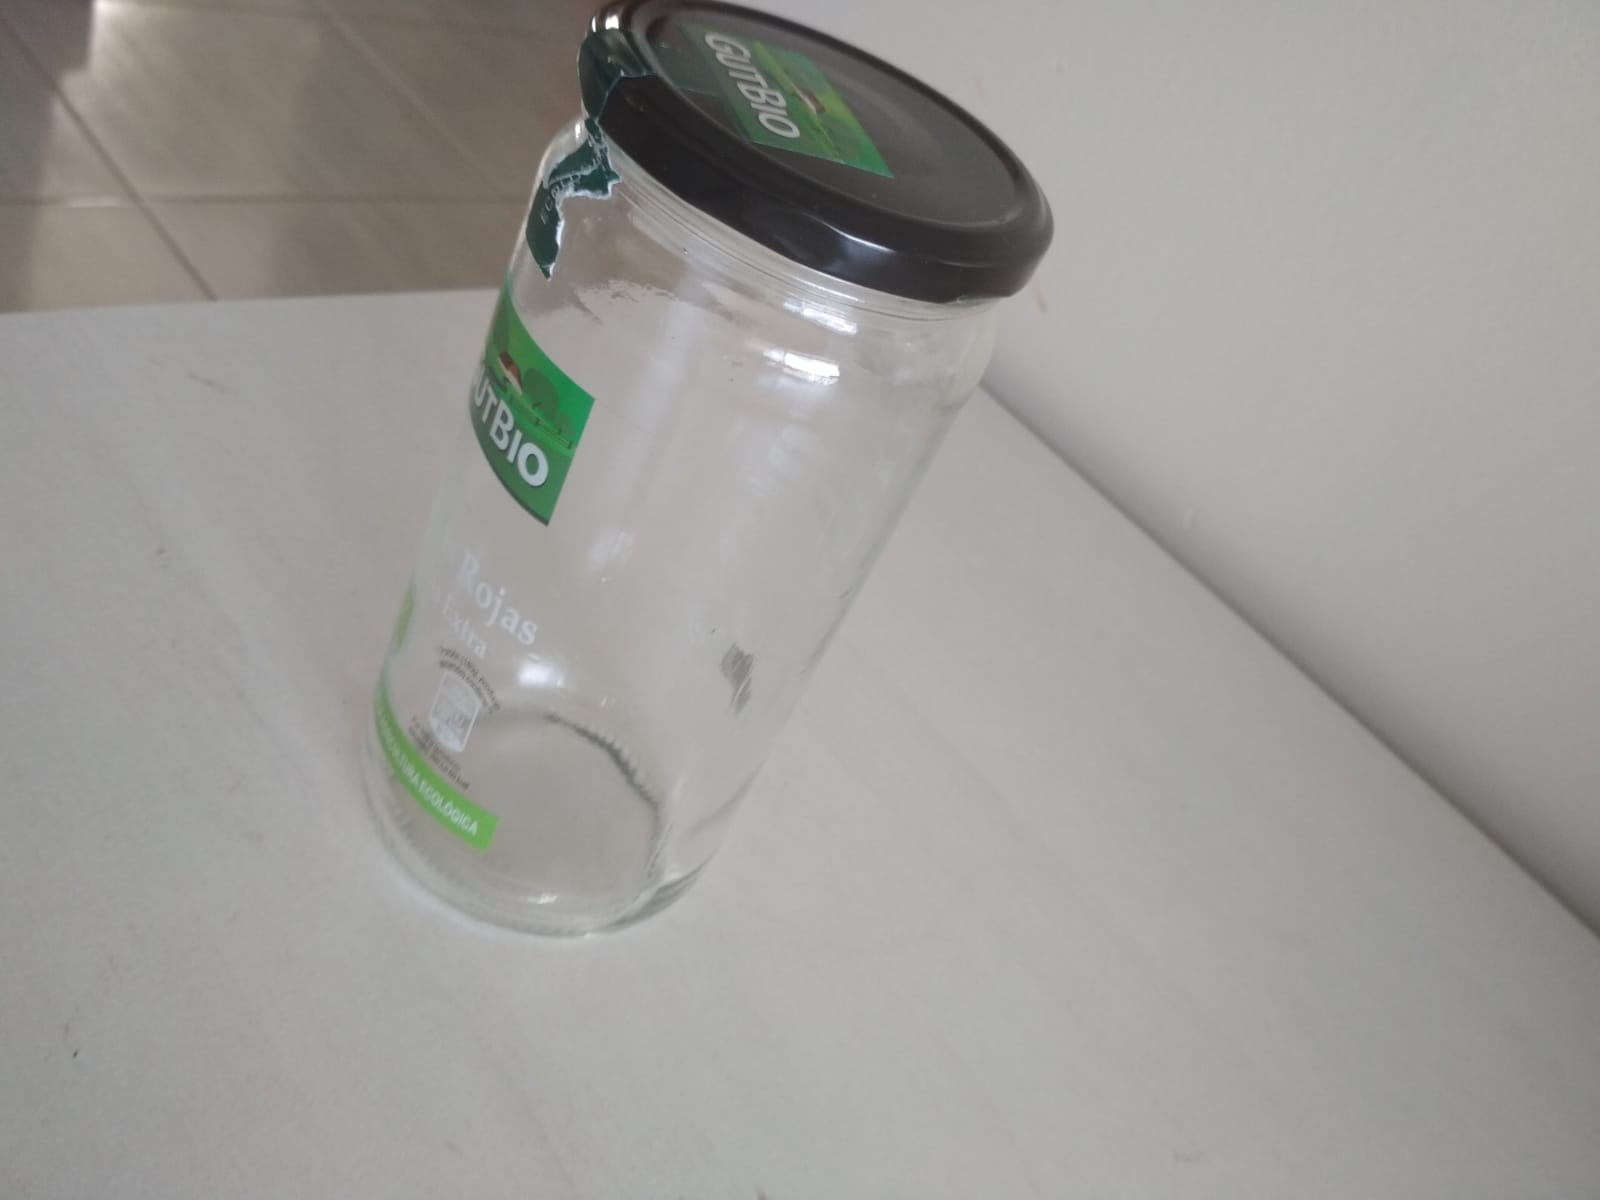pote cristal: (350, 1, 1056, 942)
